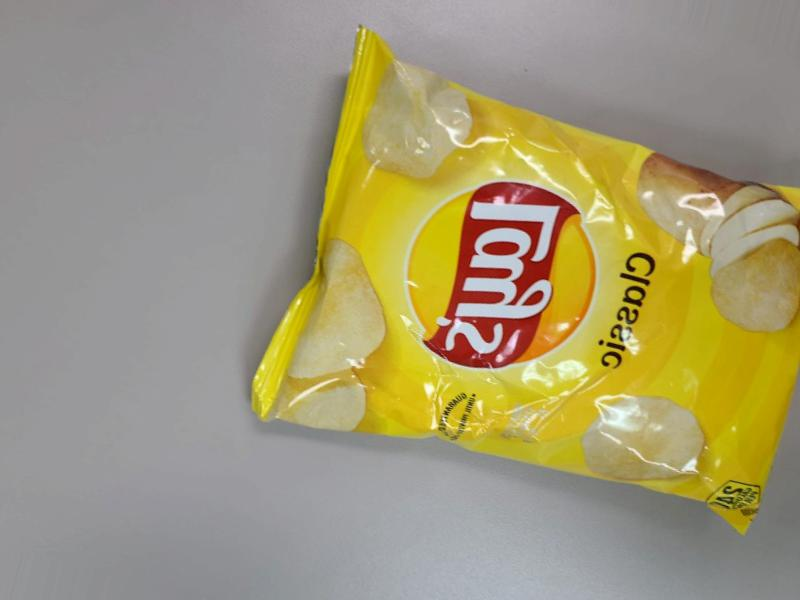lays: (345, 0, 778, 598)
